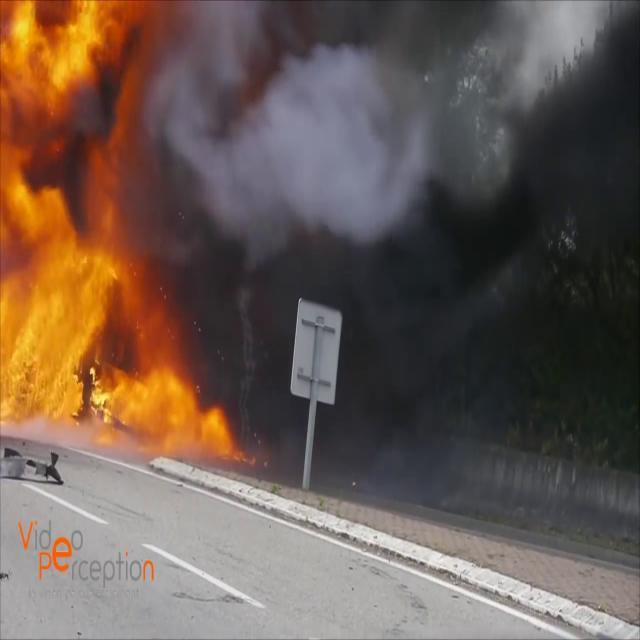Fire: (0, 2, 233, 450)
Smoke: (125, 0, 640, 254)
